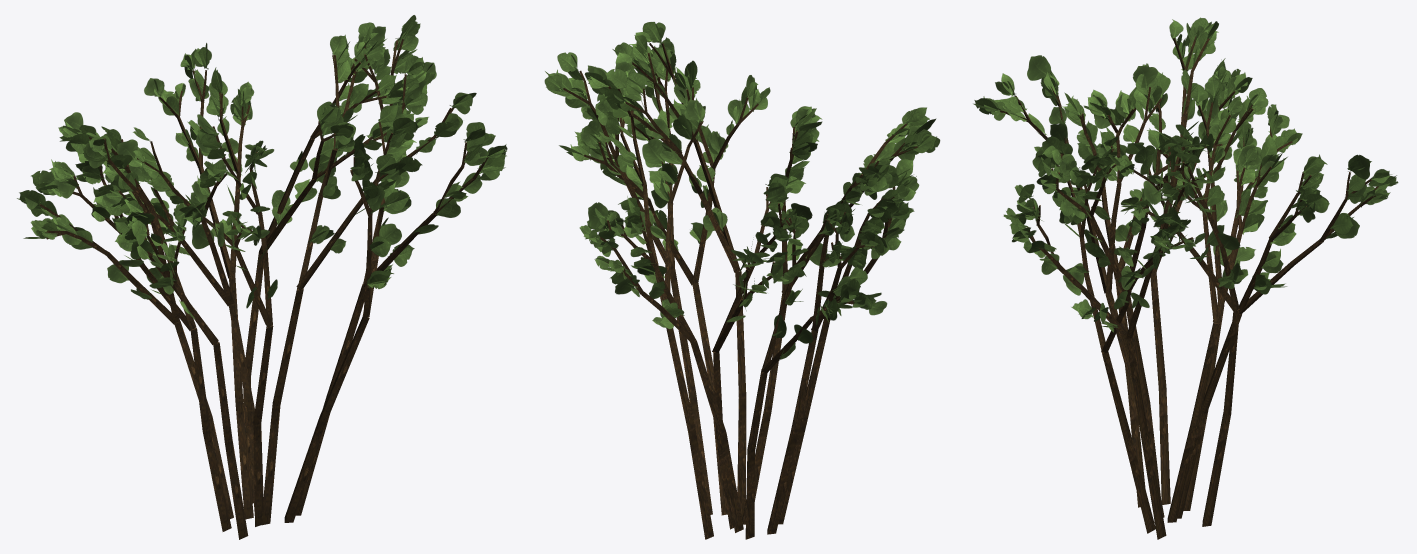
The model's file is hazel_coppice_v01_LOD1.glb.
3 renders of one model, left to right at view 1: azimuth 30°, elevation 25°; view 2: azimuth 150°, elevation 25°; view 3: azimuth 270°, elevation 25°, orthographic. The views are drawn at different scales.
Parts seen in each view (by area): view 1: hazel_coppice_v01_LOD1; view 2: hazel_coppice_v01_LOD1; view 3: hazel_coppice_v01_LOD1.
Part boxes in pixels (<box>): hazel_coppice_v01_LOD1: <box>17,15,507,539</box>; hazel_coppice_v01_LOD1: <box>544,22,940,539</box>; hazel_coppice_v01_LOD1: <box>973,17,1398,539</box>.
Size of the model in its own units: 2.58 by 3.03 by 2.61.
2 materials, 2 textured.
